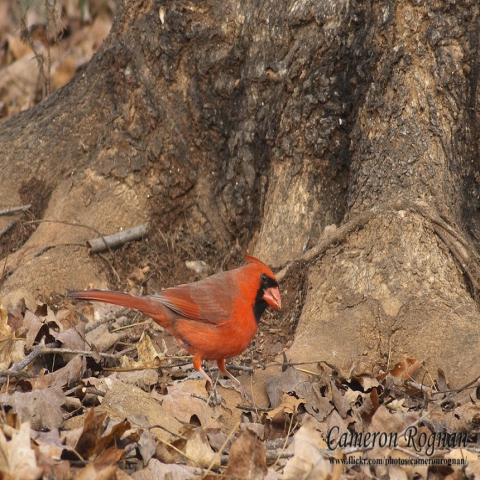bird: (66, 251, 283, 402)
